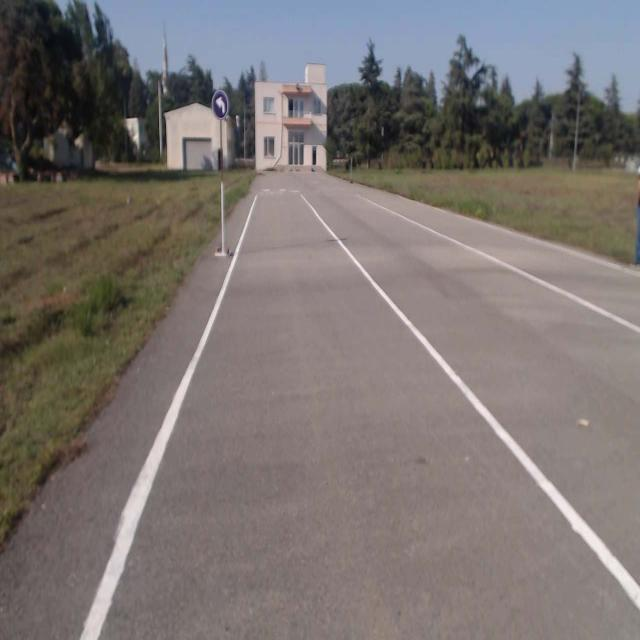sol: (211, 90, 228, 119)
